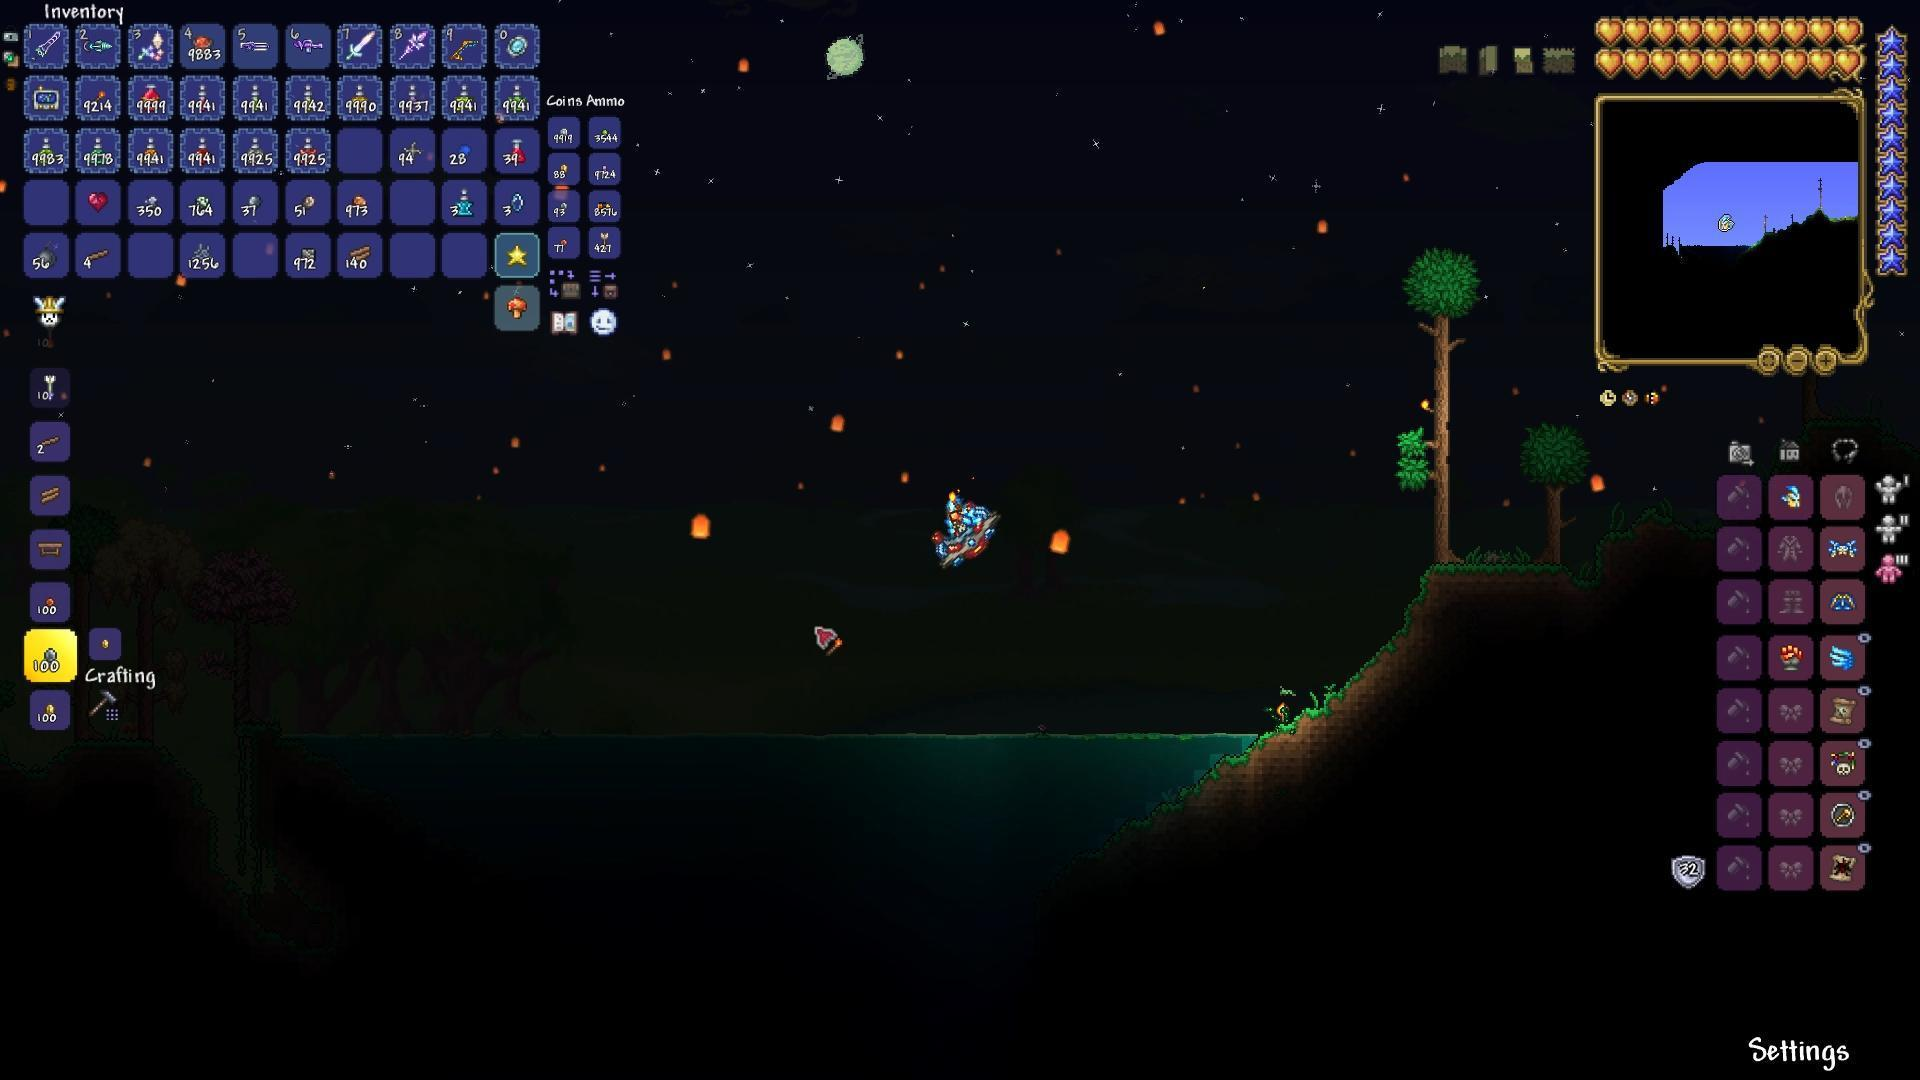mirror: (504, 33, 530, 62)
star: (506, 241, 530, 268)
